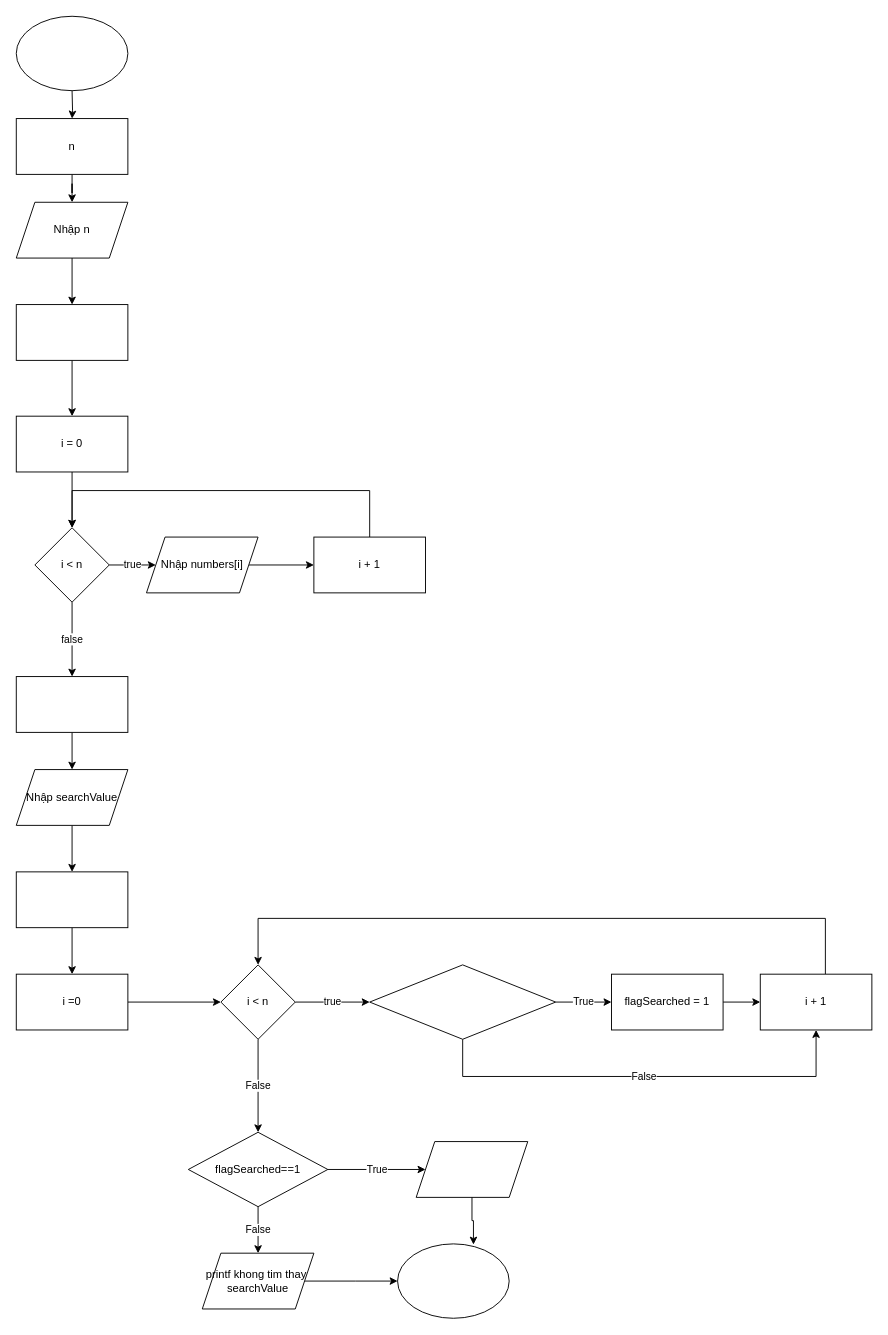
Some shapes in this 888 by 1335 pixel diagram are drawn without their labels. The centre of each missing label's shape, as x and y in pixels:
"End" goes at (x=453, y=1280).
"i,flagSearched = 0" goes at (x=71, y=899).
"numbers[i]==searchValue" goes at (x=462, y=1001).
"numbers[n]" goes at (x=71, y=332).
"printf numbers[i]" goes at (x=471, y=1169).
"searchValue" goes at (x=71, y=704).
"Start" goes at (x=71, y=53).
